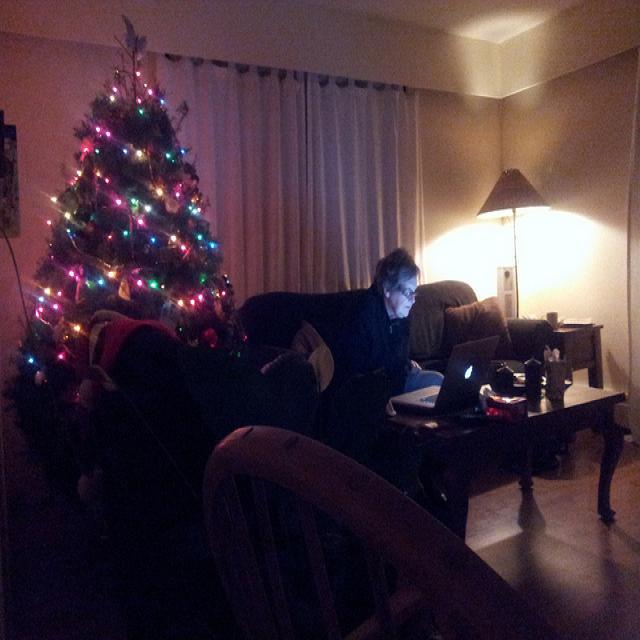Cup: (535, 365, 582, 419), (515, 352, 548, 415)
People: (332, 219, 422, 441)
Table: (347, 372, 637, 534)
chair: (184, 423, 640, 640), (68, 284, 309, 640), (235, 255, 633, 378)
